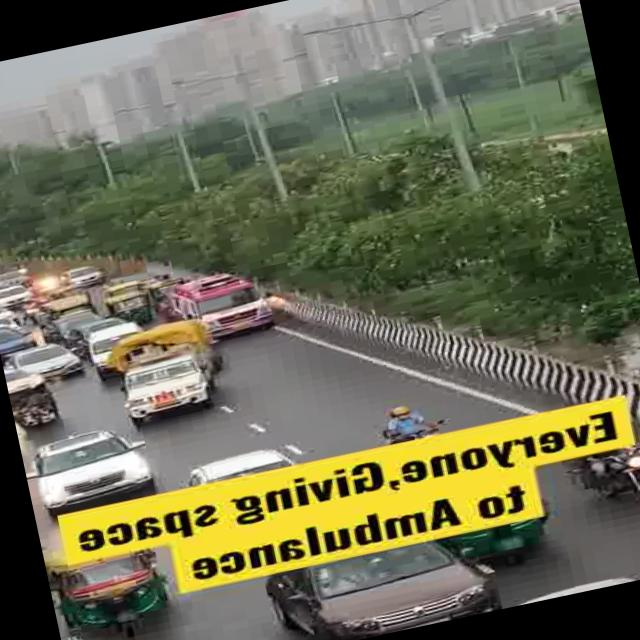ambulance: (165, 262, 276, 344)
